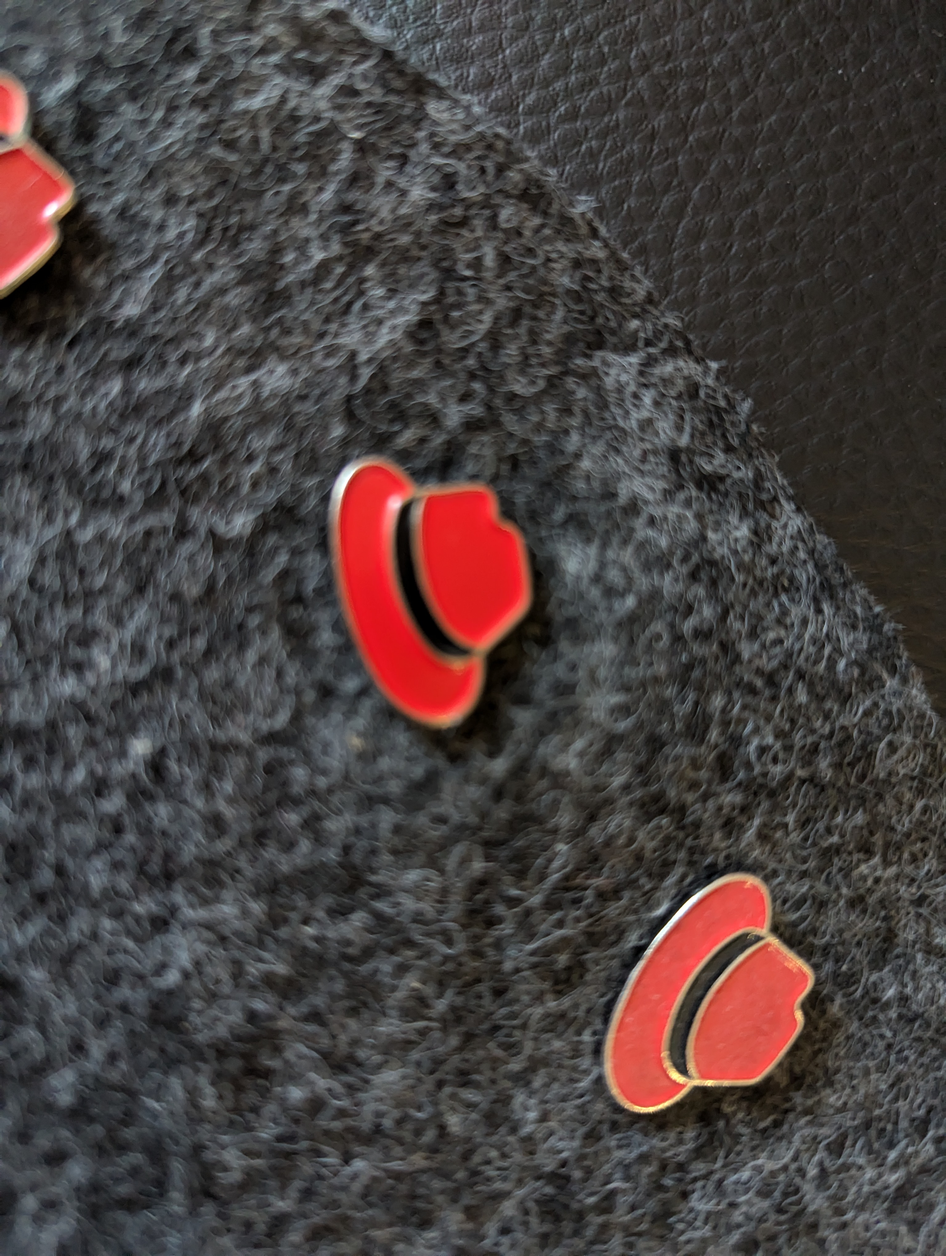Red-Hat: (267, 375, 584, 791), (537, 818, 851, 1176)
